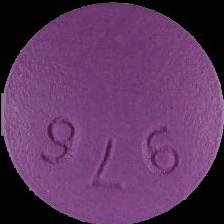43547-272: (0, 0, 224, 224)
